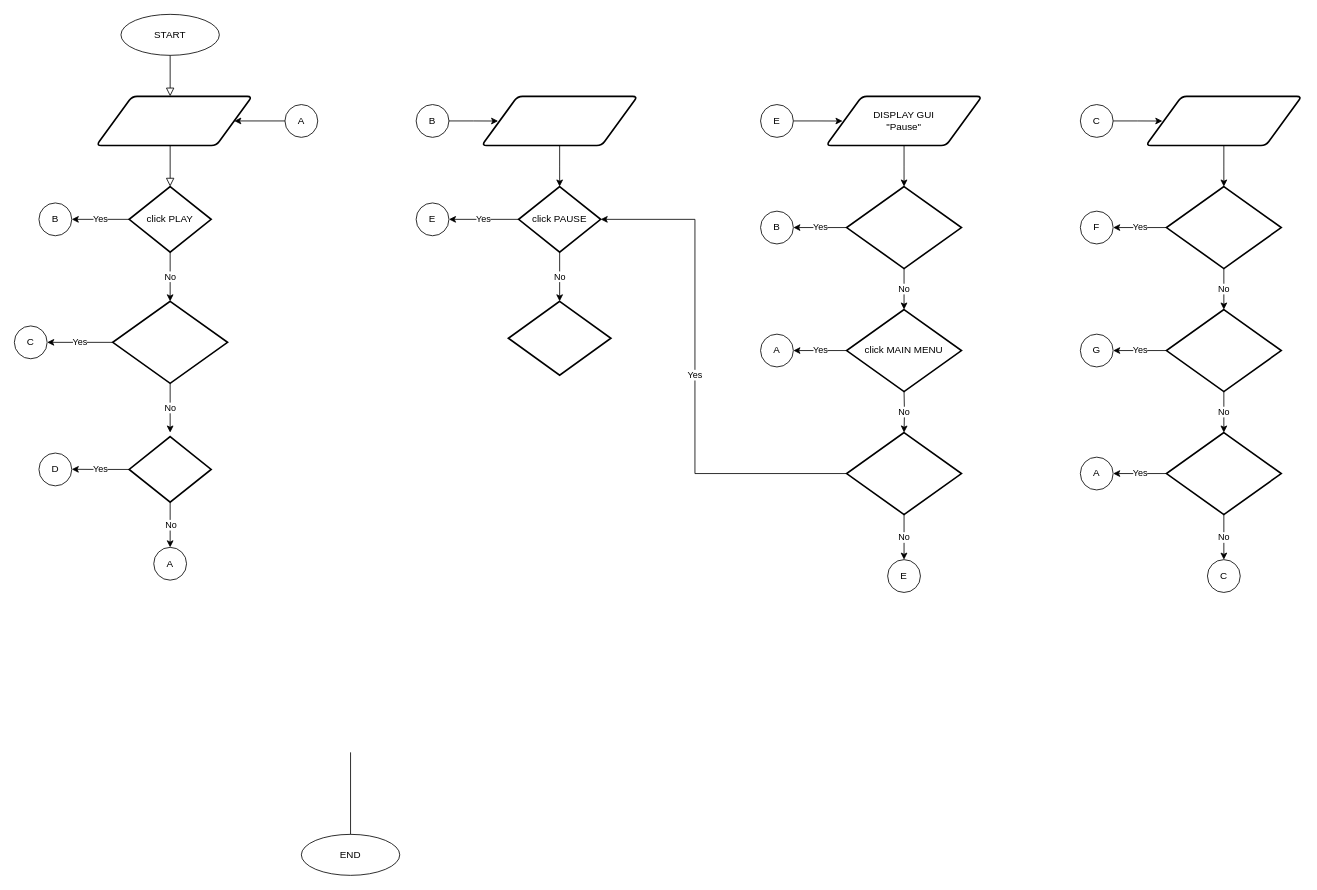
The diagram is 1317 pixels wide and 890 high, and some of its shapes have lost their labels. Here are the shapes that lost their labels. From the top down, the box of each, then its label:
(95, 95, 253, 146): DISPLAY GUI "Main Menu"
(481, 95, 638, 146): DISPLAY GUI "Main Game"
(1145, 95, 1302, 146): DISPLAY GUI "Settings"
(845, 185, 962, 269): click RESTART
(1165, 185, 1282, 269): click HOW TO PLAY
(112, 300, 228, 384): click SETTINGS
(507, 300, 611, 376): CAR CRASHED?
(1165, 308, 1282, 392): click MUSIC
(128, 435, 212, 503): click QUIT
(845, 431, 962, 515): click CONTINUE
(1165, 431, 1282, 515): click BACK
